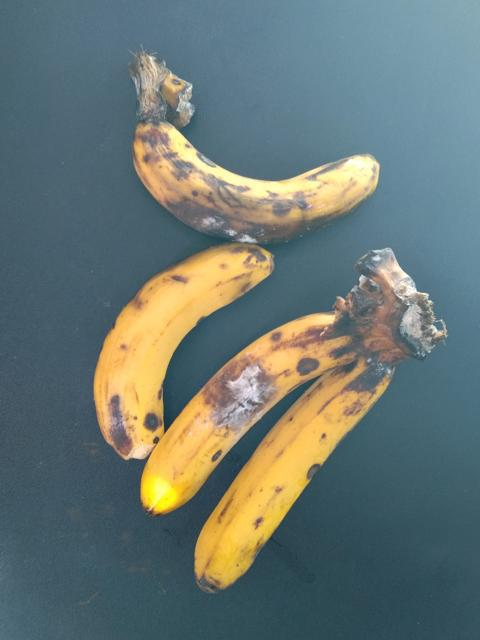overripe: (188, 360, 395, 598), (130, 307, 354, 519), (86, 240, 264, 466)
rotten: (114, 73, 389, 233)
